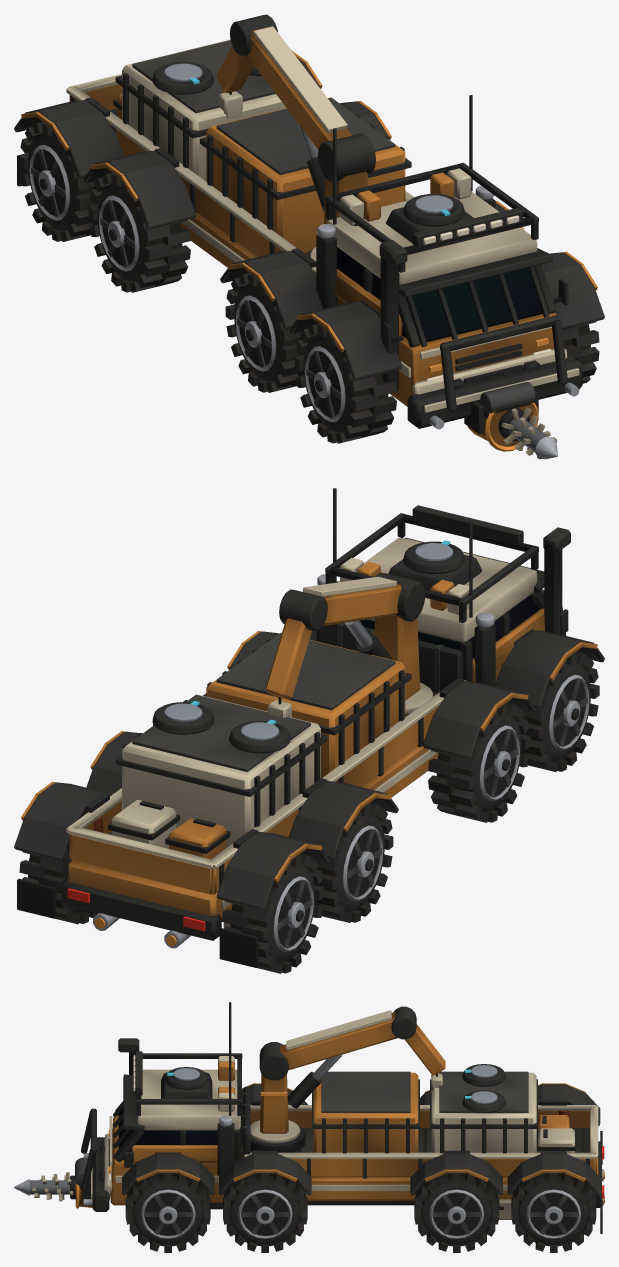
File: ex_rover_7.glb
3 renders of one model, top to bottom at view 1: azimuth 30°, elevation 25°; view 2: azimuth 150°, elevation 25°; view 3: azimuth 270°, elevation 25°, orthographic. The views are drawn at different scales.
Visible parts, largest first — view 1: body, wheel_5, wheel_1, wheel_3, wheel_7, drill, wheel_0; view 2: body, wheel_3, wheel_7, wheel_1, wheel_5, wheel_6; view 3: body, wheel_0, wheel_4, wheel_6, wheel_2, drill.
Boxes of the visible parts, x1,y1,x2,y2 form: body: (14,14,604,451); wheel_5: (88,173,190,292); wheel_1: (295,323,396,443); wheel_3: (225,273,303,392); wheel_7: (19,122,97,241); drill: (498,407,557,459); wheel_0: (562,321,599,383); body: (14,488,604,967); wheel_3: (428,703,530,822); wheel_7: (222,853,323,973); wheel_1: (521,652,599,771); wheel_5: (315,803,393,922); wheel_6: (19,811,98,924); body: (75,1002,604,1233); wheel_0: (125,1173,210,1252); wheel_4: (414,1173,499,1252); wheel_6: (511,1173,596,1252); wheel_2: (223,1173,307,1252); drill: (14,1172,75,1201).
Bounding box in the file's own units: 5.79 × 5.82 × 16.33.
